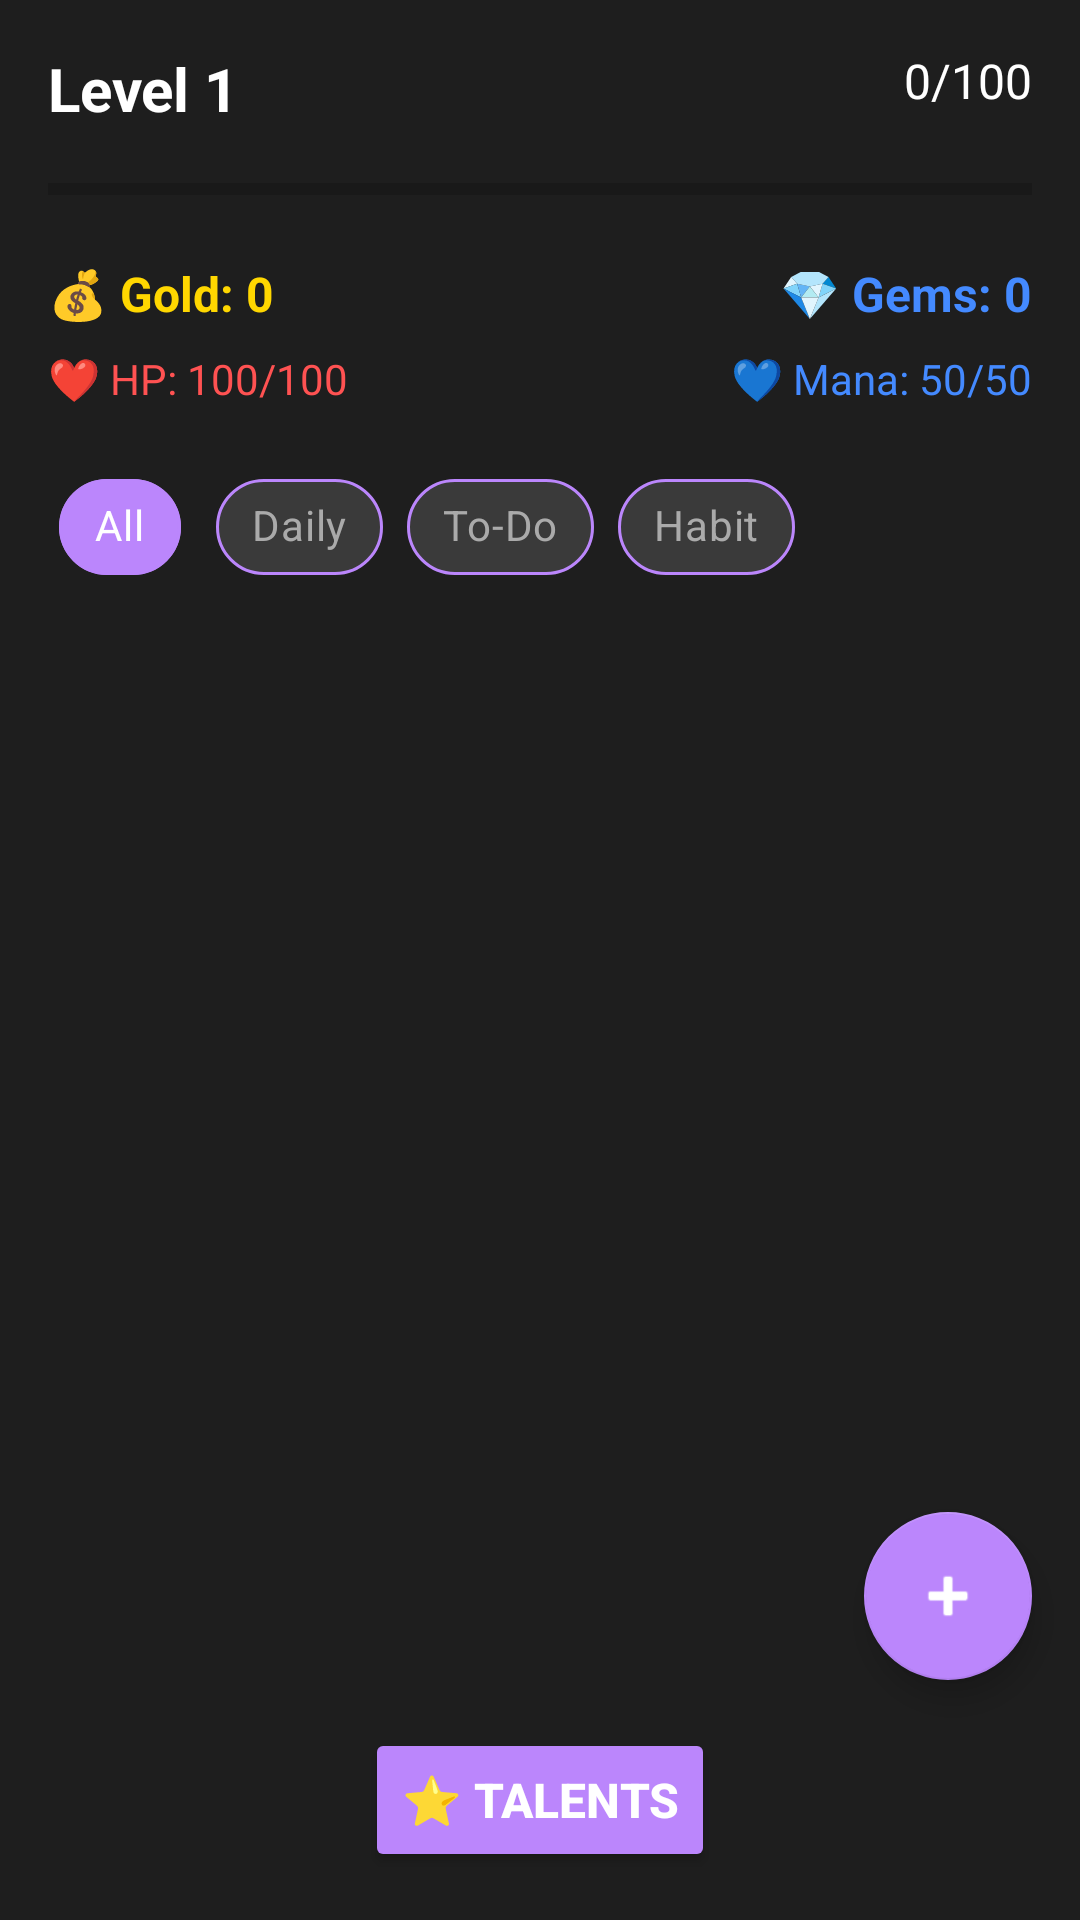

Named icons in this screenshot (1080px×1920px) and their bounding boxes, (x1, y1, x2, y2):
add: (864, 1512, 1032, 1680)
